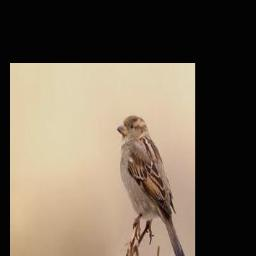Sparrow: (116, 116, 186, 256)
